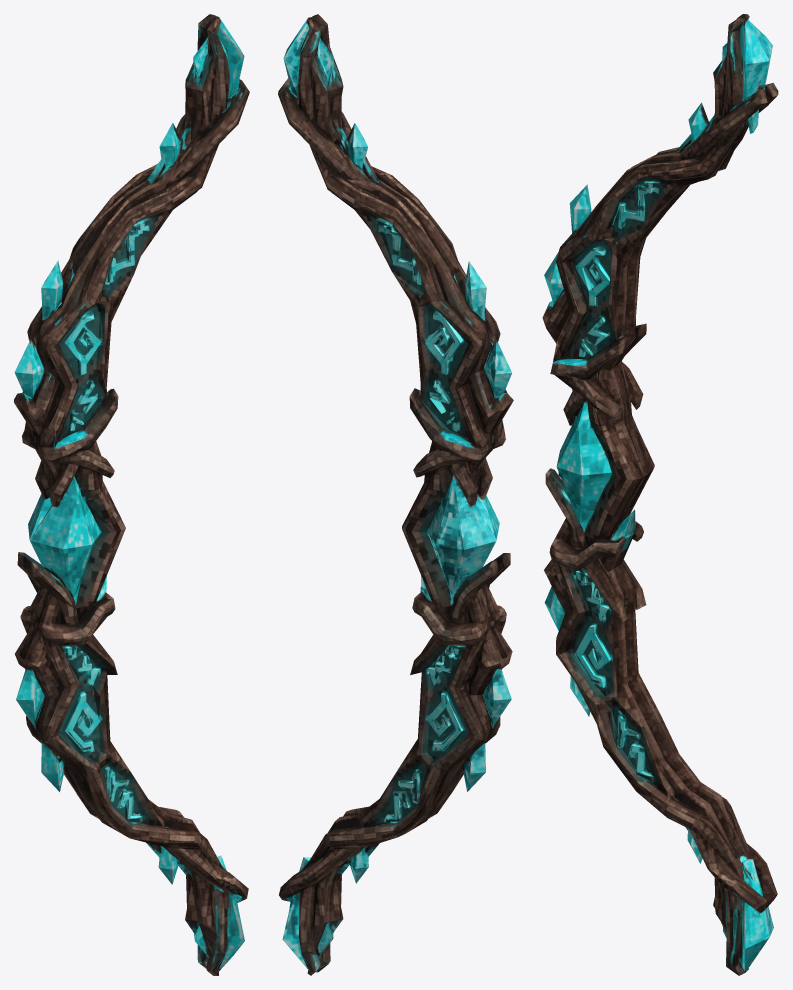
The model's file is Meshy_AI_mystic_bow_lowpoly_1018143303_texture.fbx.
The picture shows the model from 3 angles, left to right: view 1: azimuth 30°, elevation 25°; view 2: azimuth 150°, elevation 25°; view 3: azimuth 330°, elevation 25°; orthographic projection.
Parts seen in each view (by area): view 1: output_unwrapped; view 2: output_unwrapped; view 3: output_unwrapped.
Part boxes in pixels (x1,y1,x2,y2): output_unwrapped: [14, 14, 249, 975]; output_unwrapped: [278, 14, 513, 975]; output_unwrapped: [542, 14, 778, 975].
Size of the model in its own units: 47.38 by 190 by 15.09.
Materials: 1 (1 with a texture image).
